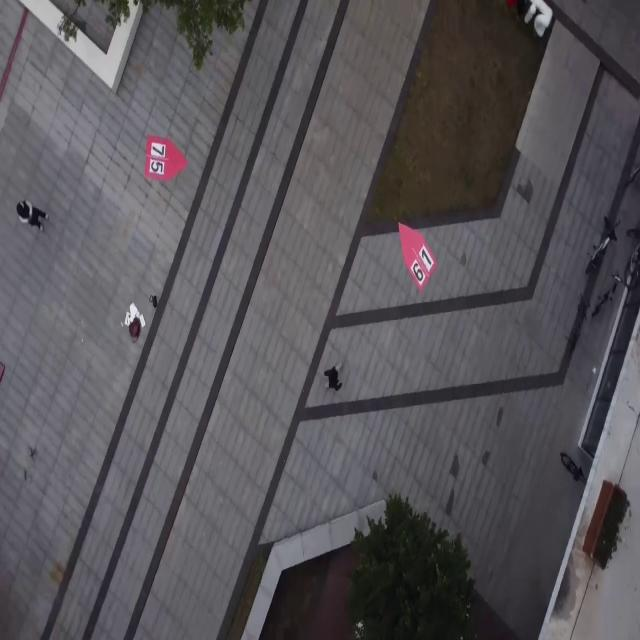-sign-: (397, 220, 437, 294), (144, 133, 188, 183)
